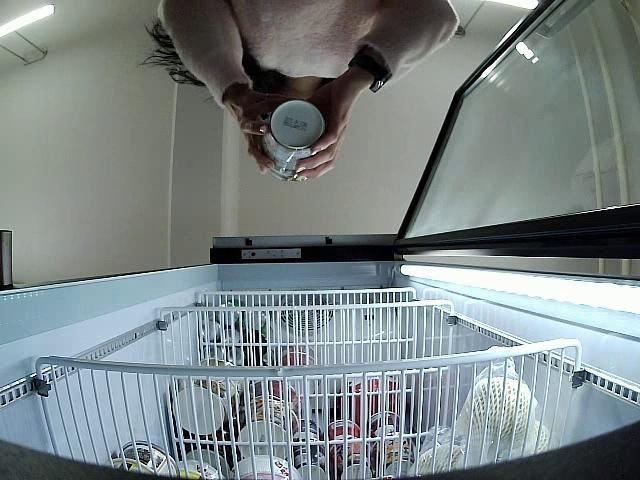04_chapagetti_S: (265, 100, 327, 177)
